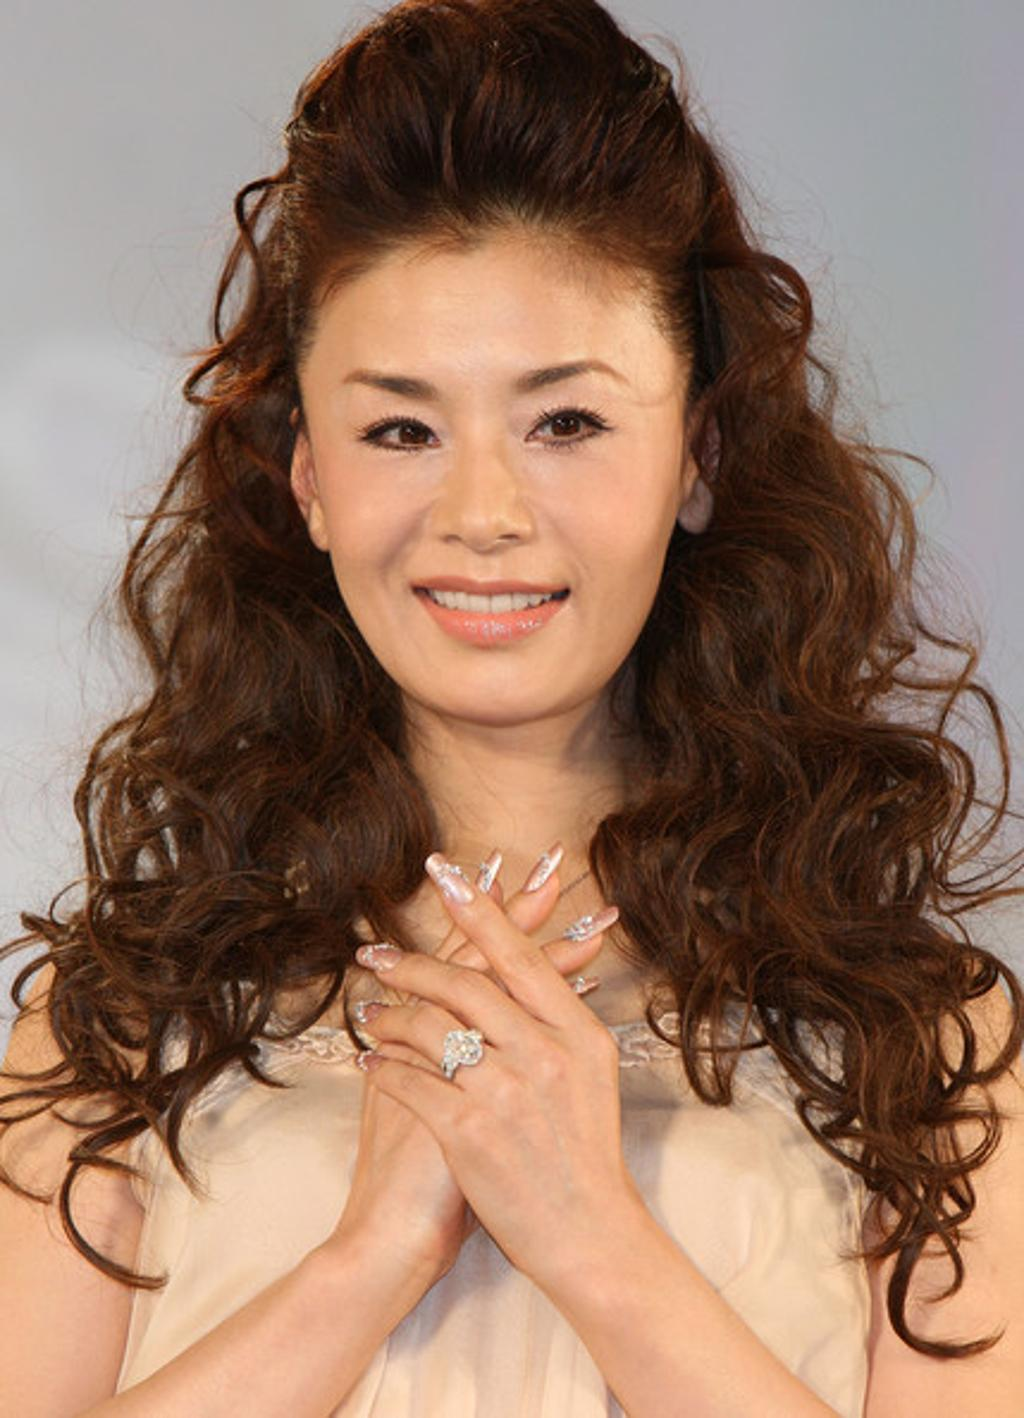face: (299, 196, 684, 719)
